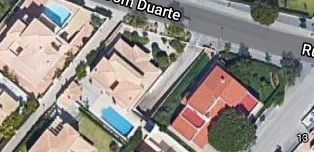pool: (99, 105, 134, 137), (45, 3, 71, 26)
